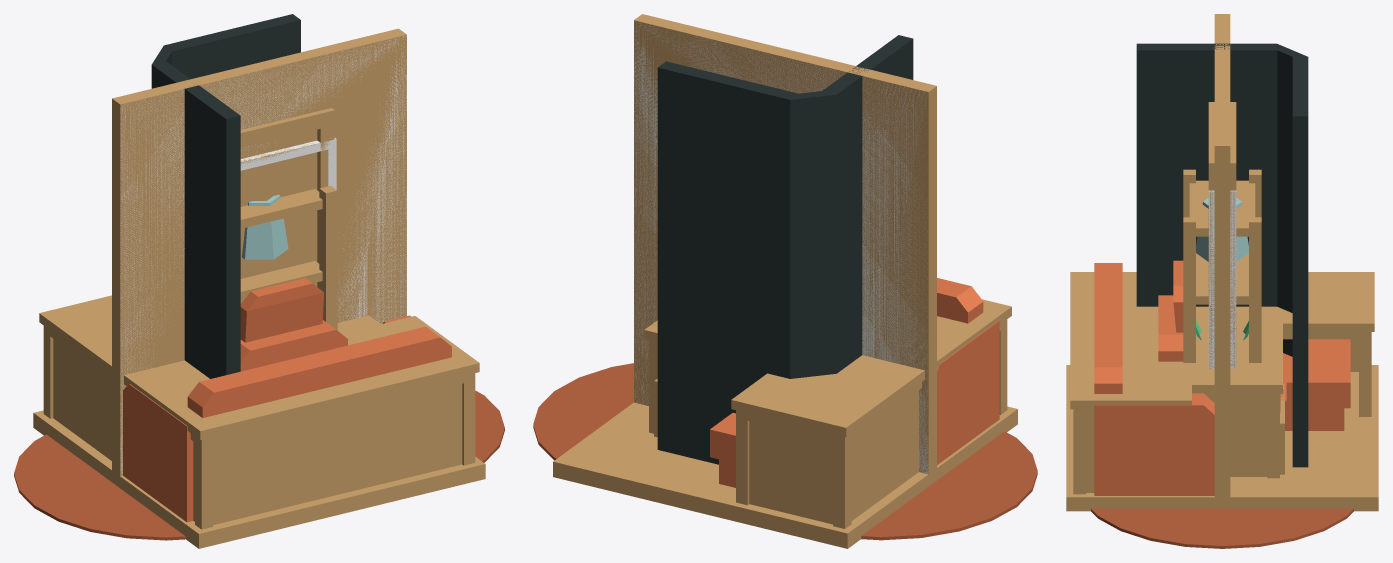
The model's file is furniture.glb.
3 views of the same model, side by side, from view 1: azimuth 30°, elevation 25°; view 2: azimuth 150°, elevation 25°; view 3: azimuth 270°, elevation 25° (orthographic). The views are drawn at different scales.
Parts seen in each view (by area): view 1: wallMesh, deskCornerMesh, wallCornerMesh, loungeSofaLongMesh, wallDoorwayMesh, rugRoundedMesh, wallWindowMesh, floorFullMesh, bookcaseOpenMesh, chairDeskMesh, loungeChairMesh, lampRoundFloorMesh (+1 smaller); view 2: wallCornerMesh, wallMesh, deskCornerMesh, wallWindowMesh, wallDoorwayMesh, floorFullMesh, rugRoundedMesh, loungeSofaLongMesh, deskMesh; view 3: wallCornerMesh, loungeSofaLongMesh, deskCornerMesh, floorFullMesh, deskMesh, wallMesh, rugRoundedMesh, bookcaseOpenMesh, wallDoorwayMesh, loungeChairMesh, doorwayOpenMesh, wallWindowMesh (+3 smaller).
Boxes of the visible parts, x1,y1,x2,y2 form: wallMesh: (112,28,406,487); deskCornerMesh: (39,295,479,529); wallCornerMesh: (151,14,300,378); loungeSofaLongMesh: (123,315,451,522); wallDoorwayMesh: (120,35,406,473); rugRoundedMesh: (14,390,504,540); wallWindowMesh: (120,35,406,475); floorFullMesh: (33,410,485,548); bookcaseOpenMesh: (240,185,337,330); chairDeskMesh: (240,278,323,342); loungeChairMesh: (240,320,347,371); lampRoundFloorMesh: (242,194,288,259); wallCornerMesh: (657,35,913,464); wallMesh: (634,14,936,484); deskCornerMesh: (731,299,1011,528); wallWindowMesh: (634,21,935,486); wallDoorwayMesh: (634,22,928,473); floorFullMesh: (553,402,1017,548); rugRoundedMesh: (533,363,1037,540); loungeSofaLongMesh: (710,278,999,487); deskMesh: (644,320,888,433); wallCornerMesh: (1136,43,1308,467); loungeSofaLongMesh: (1094,263,1350,495); deskCornerMesh: (1070,272,1374,494); floorFullMesh: (1066,365,1378,511); deskMesh: (1161,306,1282,478); wallMesh: (1214,14,1230,508); rugRoundedMesh: (1091,508,1353,548); bookcaseOpenMesh: (1183,169,1261,362); wallDoorwayMesh: (1208,190,1236,368); loungeChairMesh: (1158,295,1286,424); doorwayOpenMesh: (1208,191,1236,368); wallWindowMesh: (1208,102,1236,190).
Size of the model in its own units: 15.7 by 12.9 by 10.
